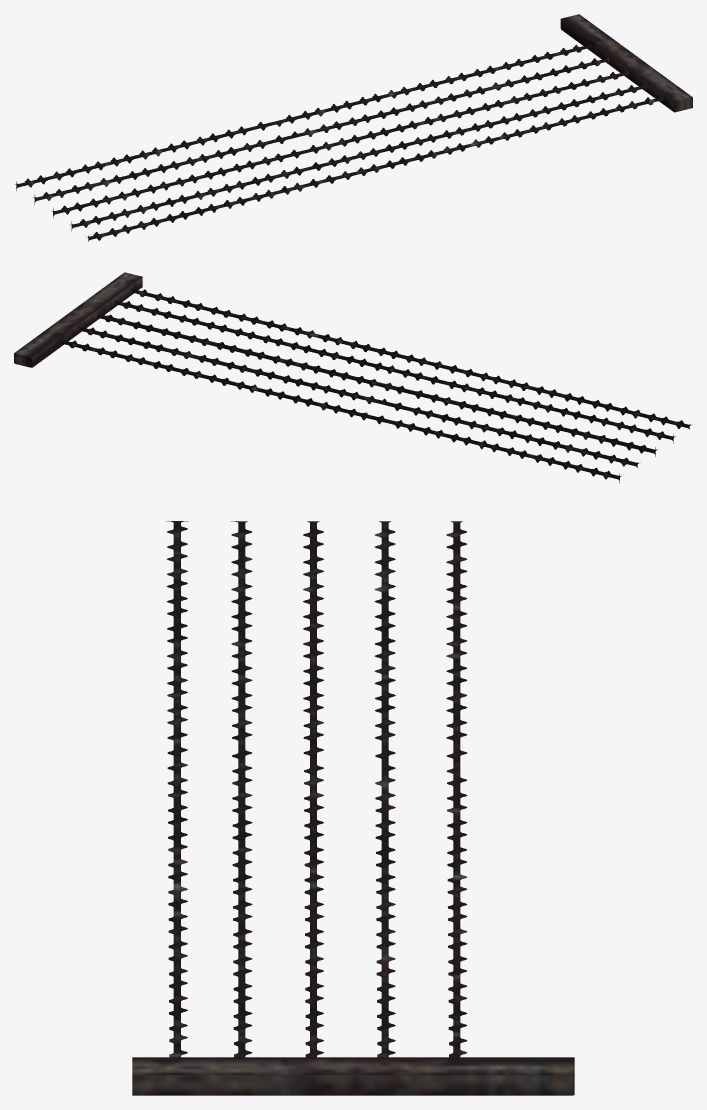
File: SM_EC_BarbwireFence_02.fbx
3 views of the same model, one above another, from view 1: azimuth 30°, elevation 25°; view 2: azimuth 150°, elevation 25°; view 3: azimuth 270°, elevation 25° (orthographic). The views are drawn at different scales.
Parts seen in each view (by area): view 1: SM_EC_BarbwireFence_02; view 2: SM_EC_BarbwireFence_02; view 3: SM_EC_BarbwireFence_02.
Part boxes in pixels (<box>): SM_EC_BarbwireFence_02: <box>15,14,692,241</box>; SM_EC_BarbwireFence_02: <box>14,272,692,483</box>; SM_EC_BarbwireFence_02: <box>132,521,574,1095</box>.
Bounding box in the file's own units: 2.91 × 0.9652 × 0.0609.
